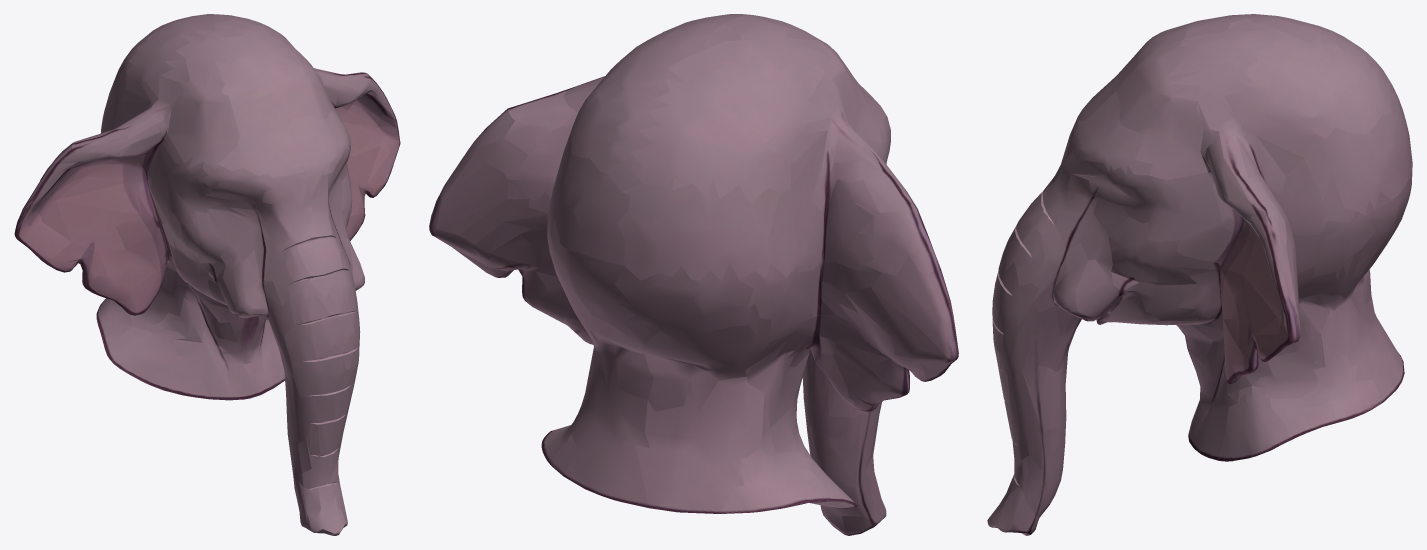
The model's file is thalor_f-tete.glb.
3 views of the same model, side by side, from view 1: azimuth 30°, elevation 25°; view 2: azimuth 150°, elevation 25°; view 3: azimuth 270°, elevation 25° (orthographic). The views are drawn at different scales.
Visible parts, largest first — view 1: geometry_0; view 2: geometry_0; view 3: geometry_0.
Part boxes in pixels (x1,y1,x2,y2): geometry_0: (14, 14, 400, 535); geometry_0: (429, 14, 958, 535); geometry_0: (987, 14, 1412, 535).
Bounding box in the file's own units: 1.77 × 1.9 × 1.44.
Materials: 1 (1 with a texture image).
